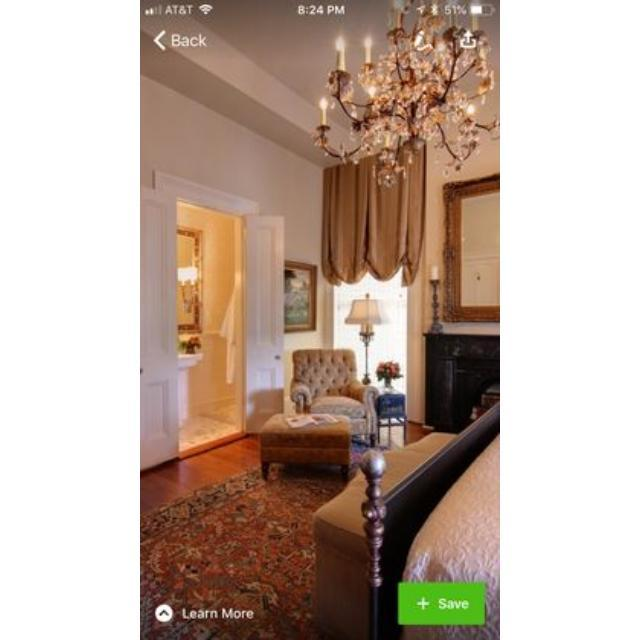bed: (362, 405, 500, 640)
chair: (291, 349, 379, 444)
curtain: (324, 149, 424, 283)
lamp: (345, 294, 381, 384)
light: (314, 0, 499, 187)
rug: (142, 466, 342, 640)
side-table: (368, 387, 408, 452)
wall-art: (283, 264, 319, 335)
